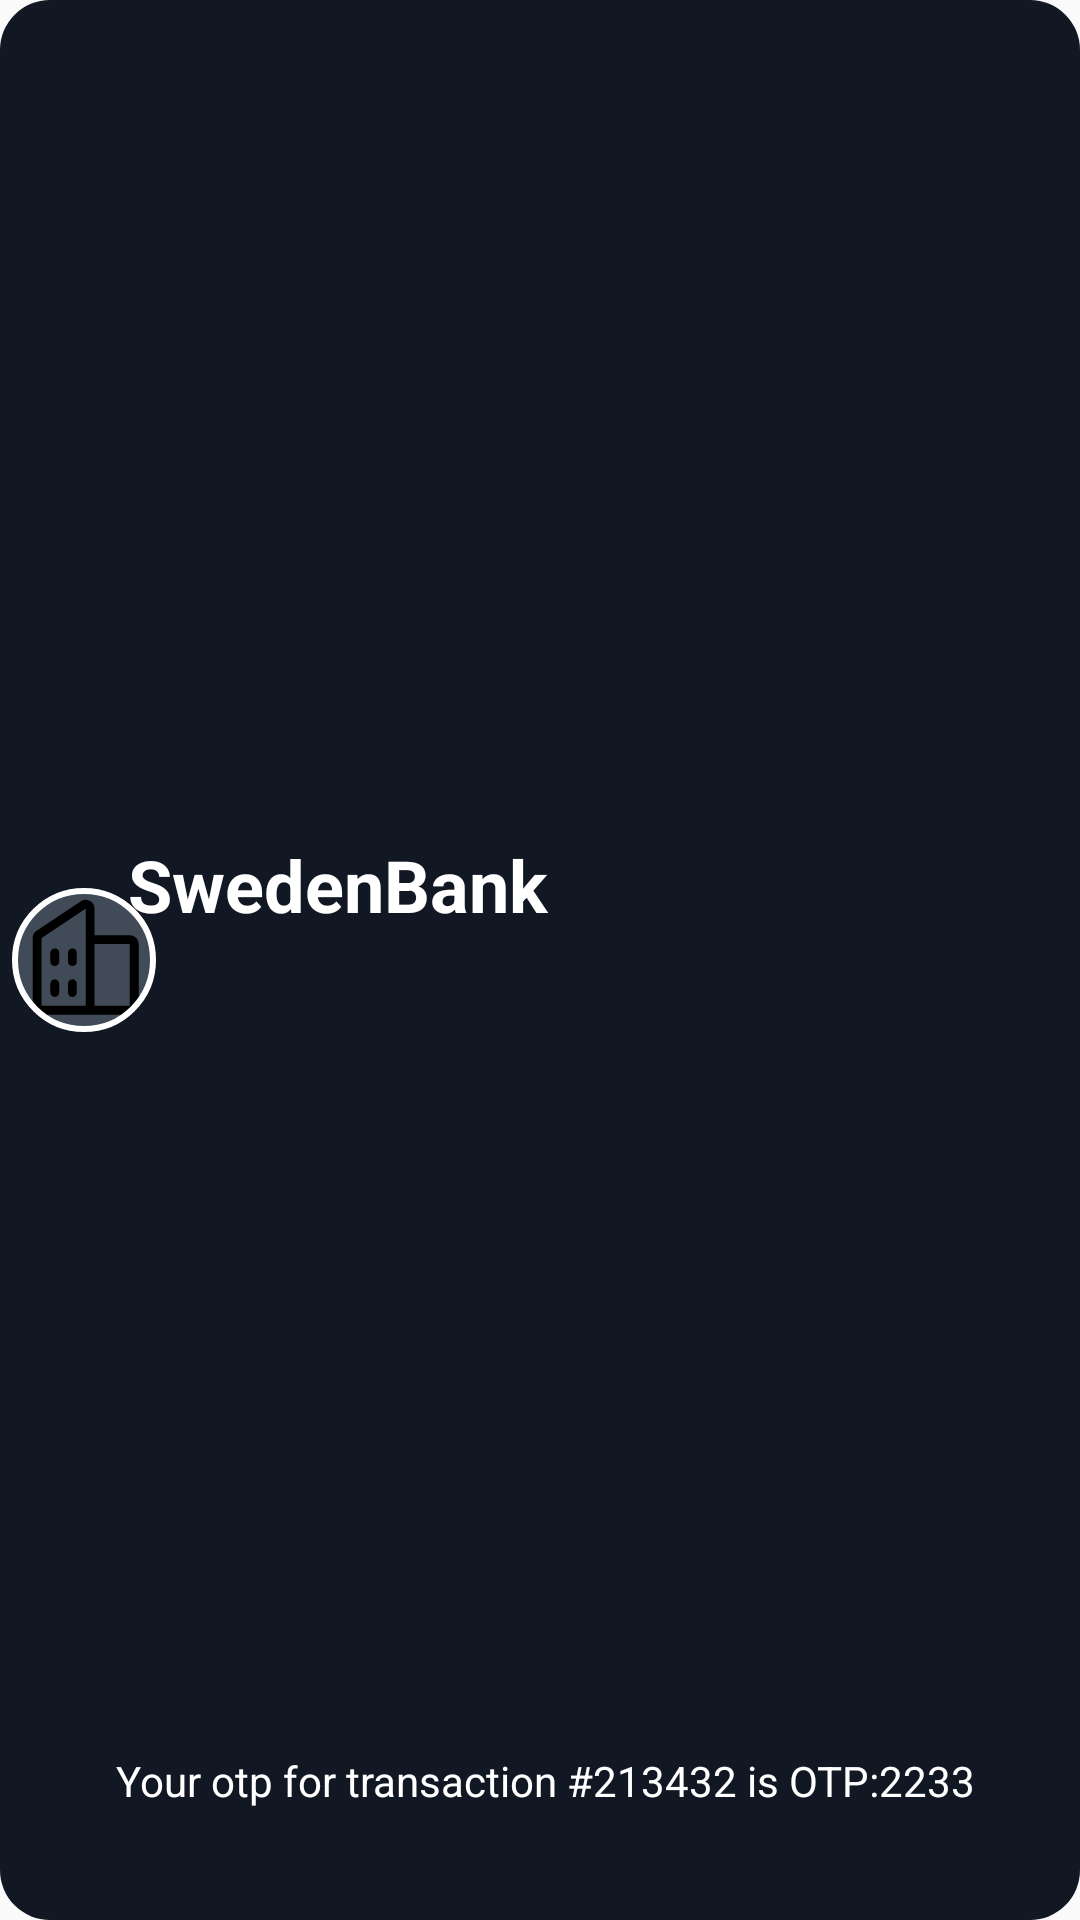

Screen size 1080 x 1920. Icon name, then its center in pixels as [x,y]:
business: [90,954]
